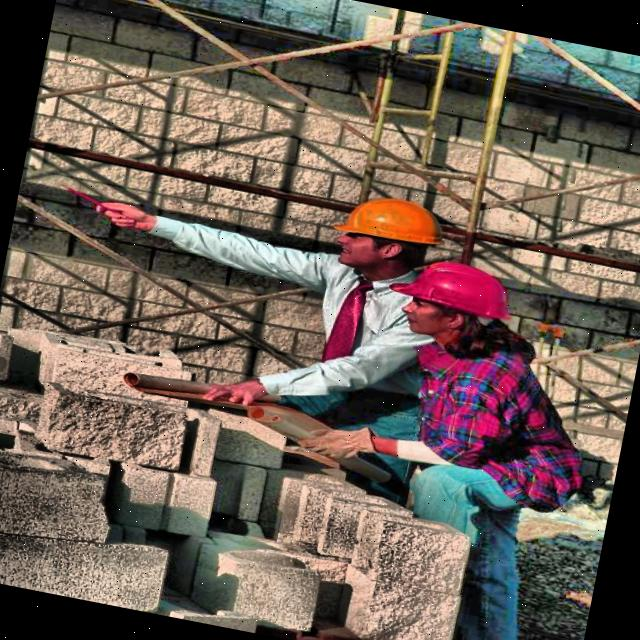helmet: (384, 252, 526, 368), (312, 183, 445, 284)
